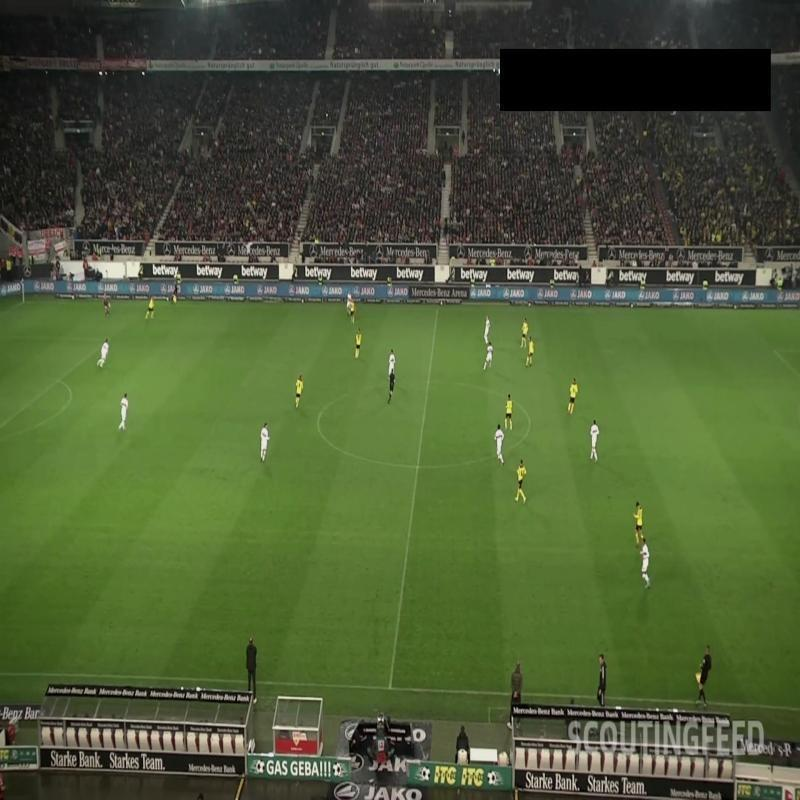1: (17, 296, 31, 310)
10: (51, 376, 65, 390)
13: (431, 300, 445, 314)
14: (422, 375, 436, 389)
15: (410, 461, 424, 476)
16: (376, 673, 403, 703), (322, 51, 336, 66)
9: (98, 332, 114, 350), (767, 343, 781, 357)
c: (520, 417, 540, 434), (312, 412, 326, 426)
